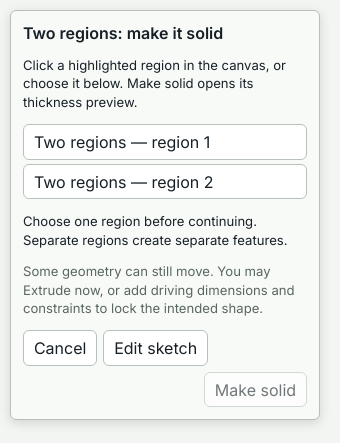
Scenario: updates keyboard/card selection enablement and clears an invalid source
Expected: the button "Make solid" is disabled, [204, 372, 307, 407]
What coordinates should you click on to do the following:
click the button "Two regions — region 2"
I would click on:
 (165, 182)
Its box is [23, 164, 307, 199].
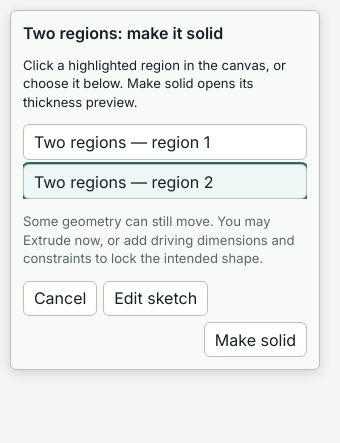
Expected: the button "Make solid" is enabled, [204, 322, 307, 357]
